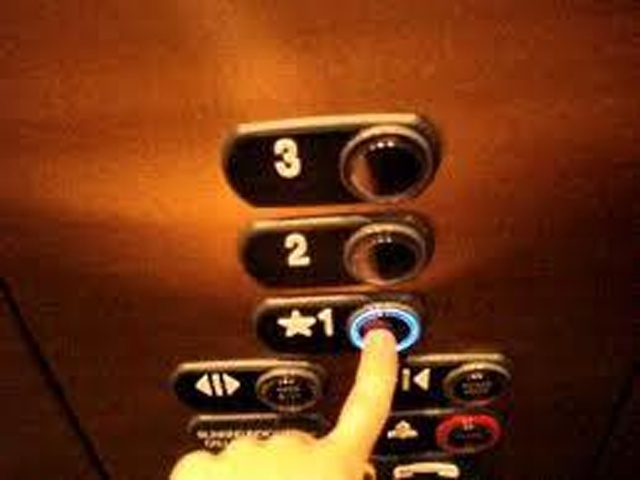2: (233, 209, 437, 292)
3: (222, 105, 447, 207)
alarm: (364, 402, 509, 461)
open: (171, 358, 334, 413)
s1: (252, 292, 433, 356)
